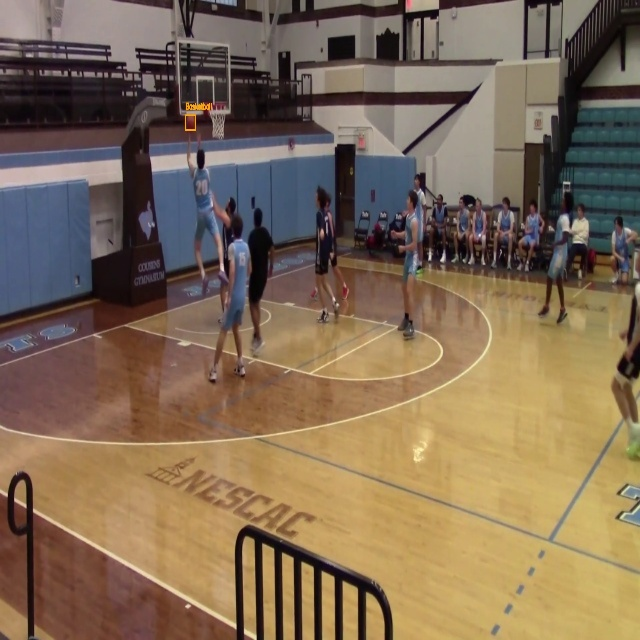Basketball: (185, 115, 195, 130)
